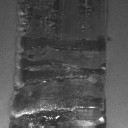slag inclusion: (8, 0, 112, 128)
